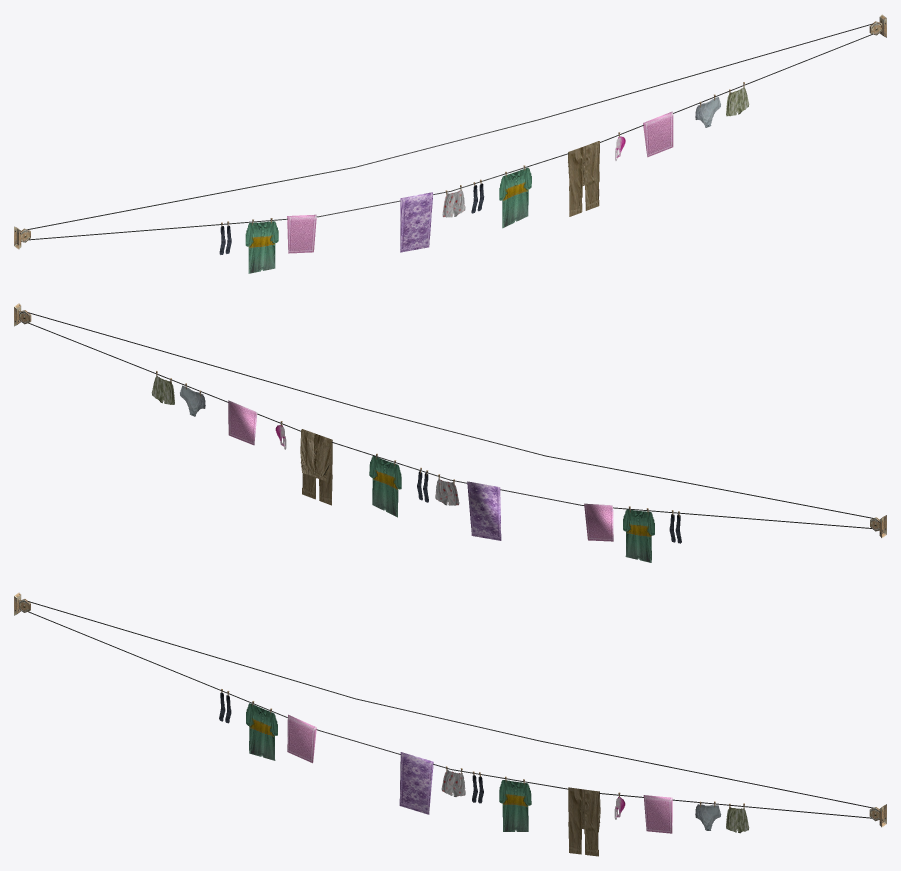
File: laundryline_10var.fbx
3 views of the same model, one above another, from view 1: azimuth 30°, elevation 25°; view 2: azimuth 150°, elevation 25°; view 3: azimuth 330°, elevation 25° (orthographic).
Visible parts, largest first — view 1: mesh_0; view 2: mesh_0; view 3: mesh_0.
Part boxes in pixels (bbox=[...]): mesh_0: bbox=[14, 14, 886, 273]; mesh_0: bbox=[14, 303, 886, 562]; mesh_0: bbox=[14, 592, 886, 856].
Bounding box in the file's own units: 1000 × 137 × 10.
Materials: 1 (1 with a texture image).
